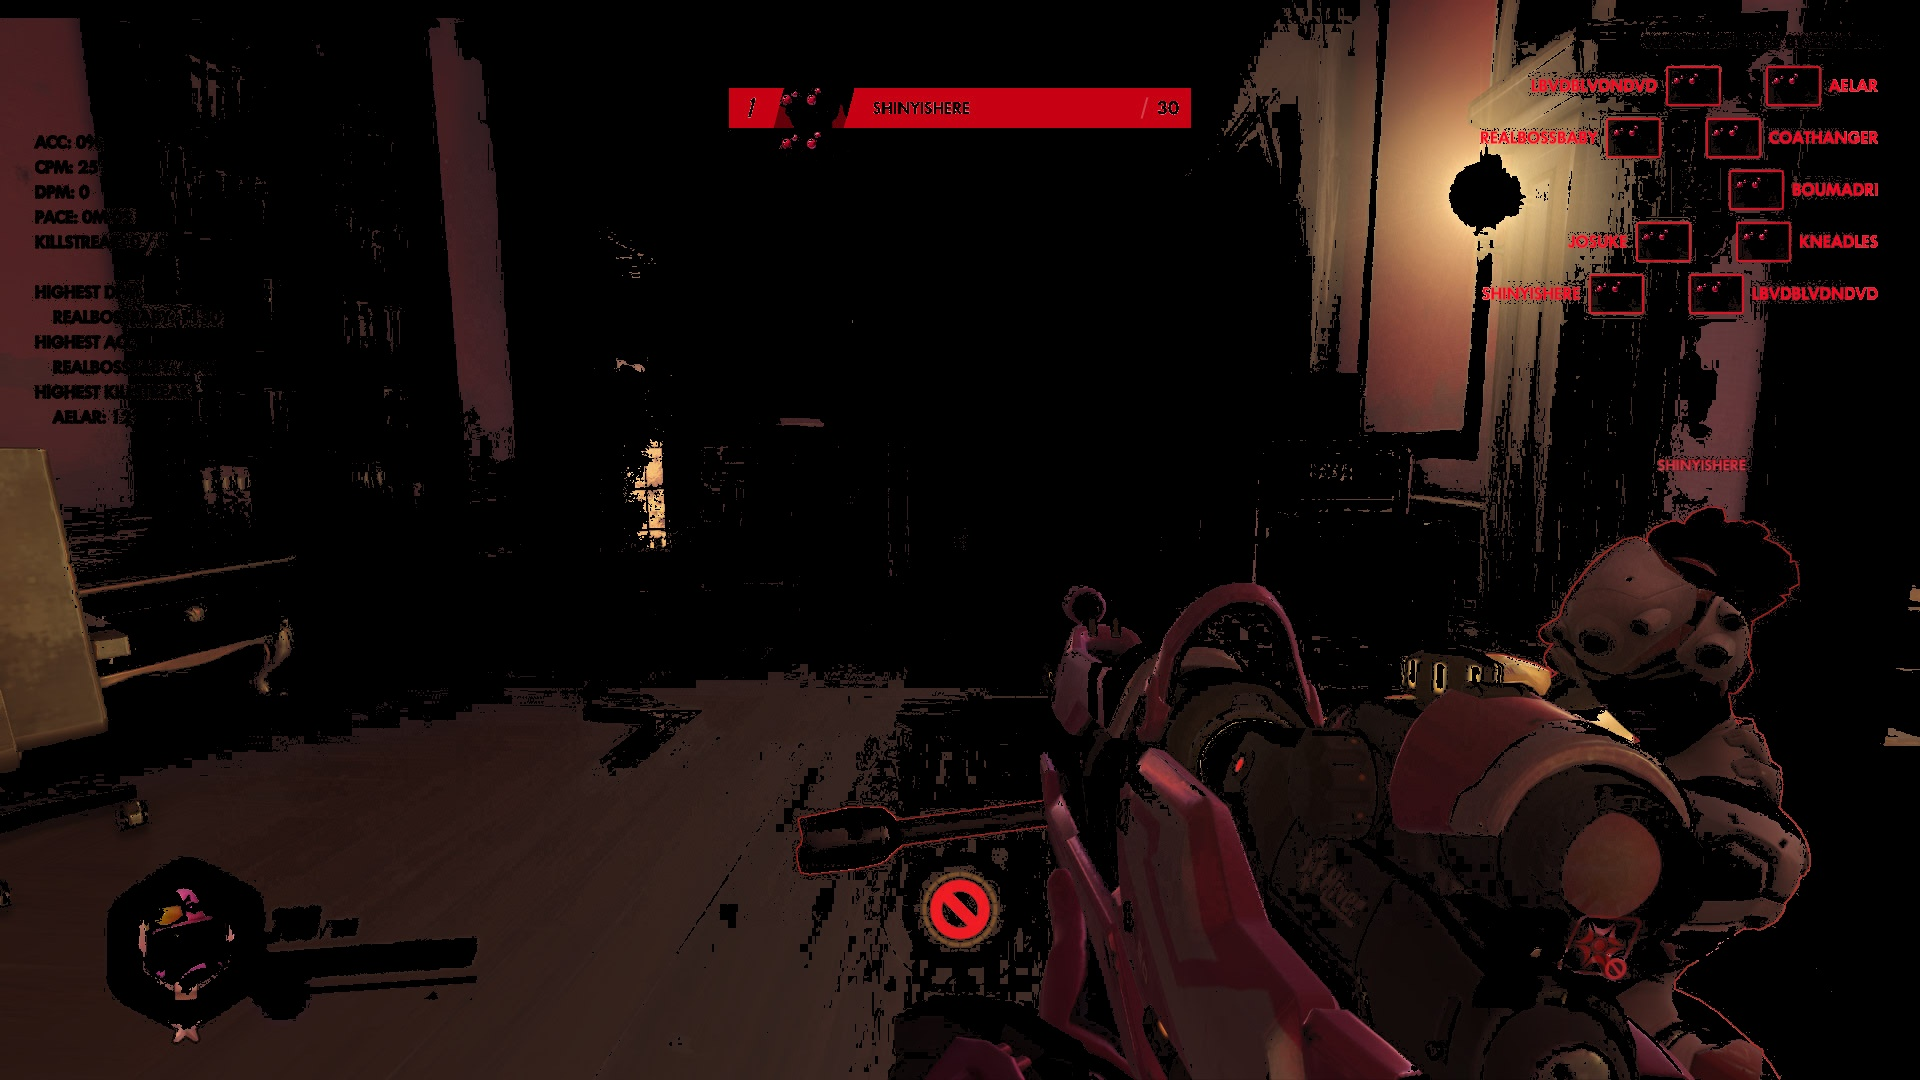widowmaker: (1324, 510, 1807, 1080)
